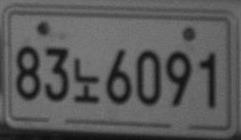0: (136, 49, 161, 105)
1: (198, 52, 225, 109)
3: (45, 47, 69, 101)
6: (105, 49, 132, 104)
8: (15, 44, 40, 99)
9: (165, 50, 192, 107)
노: (73, 57, 99, 102)
